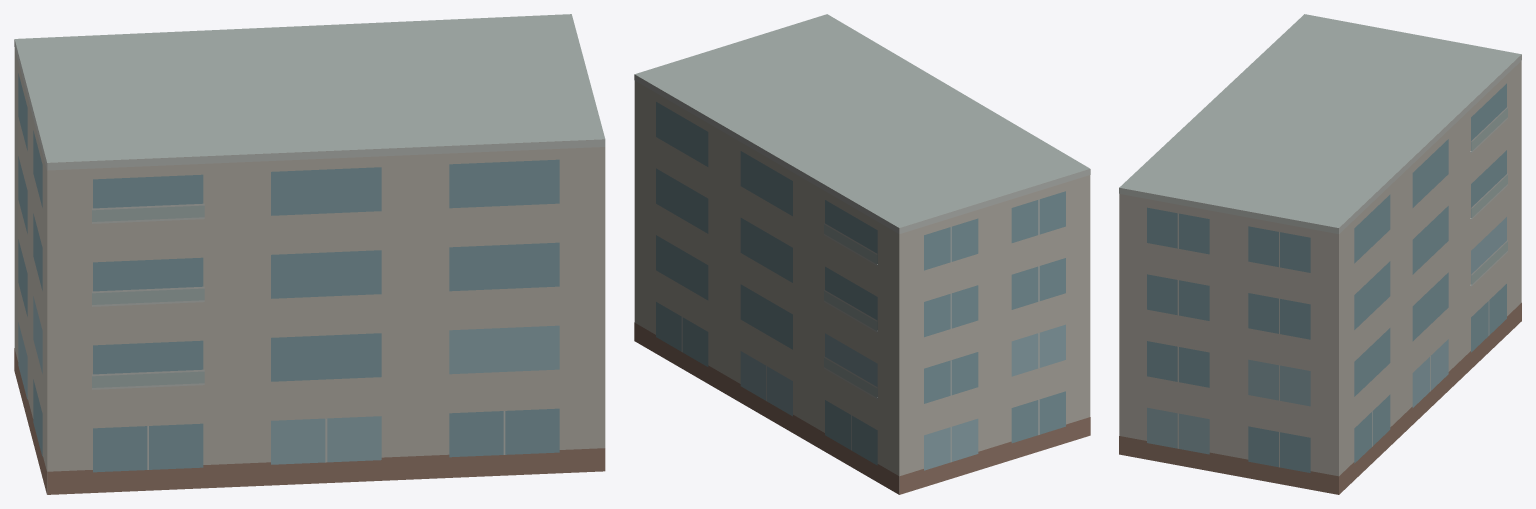
The model's file is survey-upis-32524723.glb.
3 renders of one model, left to right at view 1: azimuth 30°, elevation 25°; view 2: azimuth 150°, elevation 25°; view 3: azimuth 270°, elevation 25°, orthographic. The views are drawn at different scales.
Visible parts, largest first — view 1: survey-upis-32524723.tmp; view 2: survey-upis-32524723.tmp; view 3: survey-upis-32524723.tmp.
Boxes of the visible parts, x1,y1,x2,y2 form: survey-upis-32524723.tmp: (14, 14, 605, 494); survey-upis-32524723.tmp: (634, 14, 1090, 494); survey-upis-32524723.tmp: (1119, 14, 1521, 494).
Bounding box in the file's own units: 18.34 × 10.65 × 14.58.
